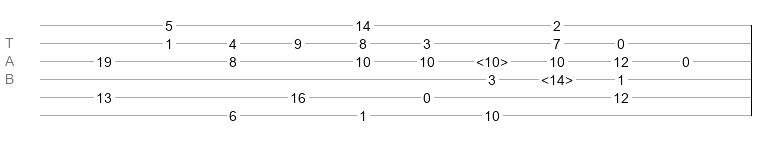0: (423, 90, 431, 100), (617, 36, 625, 46), (682, 54, 690, 64)
1: (165, 36, 173, 46), (359, 108, 367, 118), (617, 72, 625, 82)
10: (355, 54, 371, 64), (419, 54, 435, 64), (484, 108, 500, 118), (549, 54, 565, 64)
12: (613, 90, 629, 100), (613, 54, 629, 64)
13: (96, 90, 112, 100)
14: (355, 18, 371, 28)
16: (290, 90, 306, 100)
19: (96, 54, 112, 64)
2: (553, 18, 561, 28)
3: (423, 36, 431, 46), (488, 72, 496, 82)
4: (229, 36, 237, 46)
5: (165, 18, 173, 28)
6: (229, 108, 237, 118)
7: (553, 36, 561, 46)
8: (229, 54, 237, 64), (359, 36, 367, 46)
9: (294, 36, 302, 46)
harmonic: (476, 54, 508, 64), (541, 72, 573, 82)
